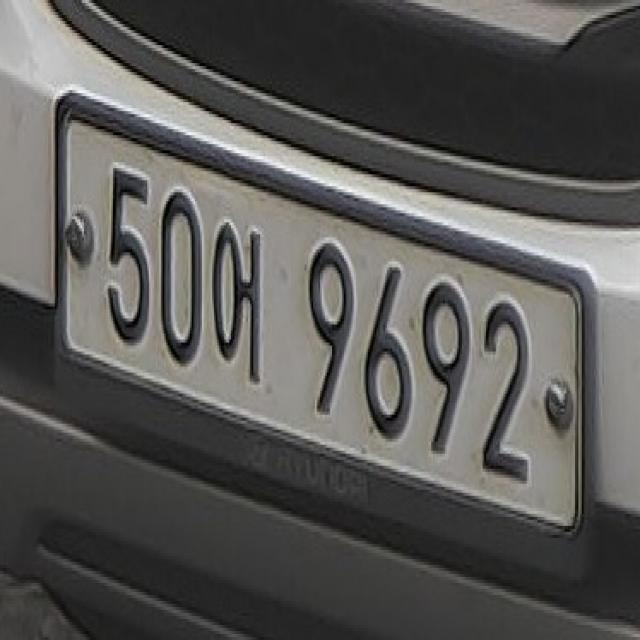0: (156, 180, 204, 372)
2: (477, 287, 538, 493)
5: (102, 144, 150, 358)
6: (365, 253, 417, 450)
9: (419, 272, 473, 470), (306, 230, 356, 440)
eo: (206, 210, 268, 389)
license_plate: (53, 86, 605, 572)
